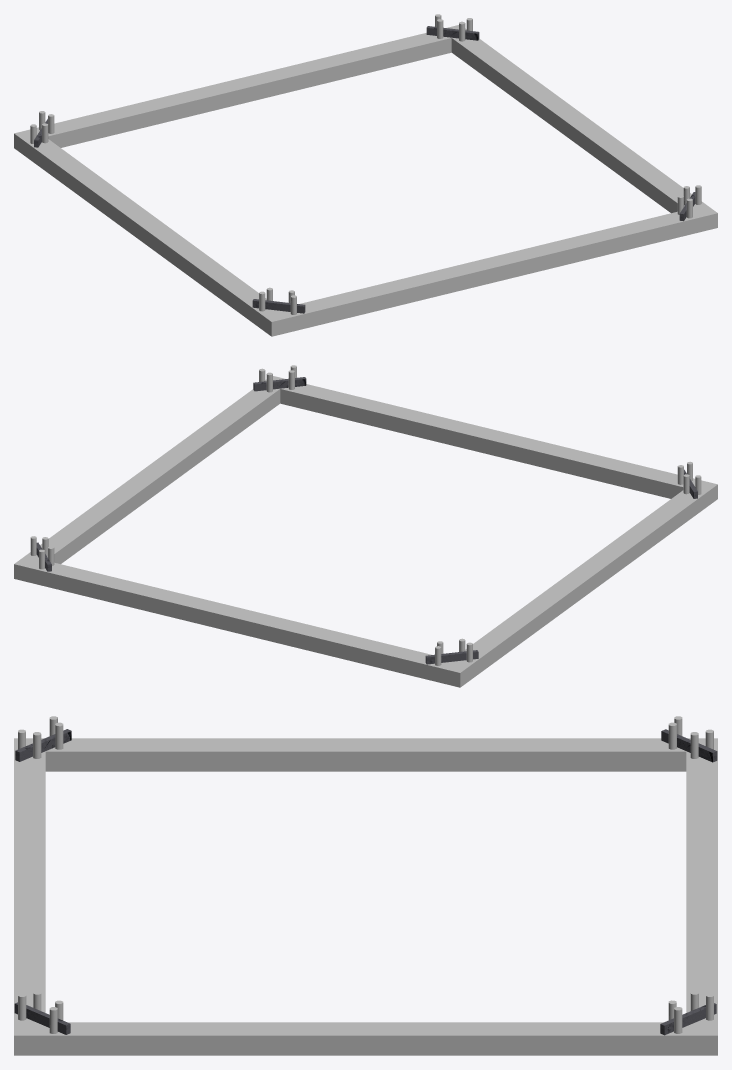
File: lvmo.FBX
The picture shows the model from 3 angles, top to bottom: view 1: azimuth 30°, elevation 25°; view 2: azimuth 150°, elevation 25°; view 3: azimuth 270°, elevation 25°; orthographic projection. The views are drawn at different scales.
Visible parts, largest first — view 1: lvmo; view 2: lvmo; view 3: lvmo.
Boxes of the visible parts, box(x1,y1,x2,y2) form: lvmo: box(14, 14, 717, 336); lvmo: box(14, 365, 717, 687); lvmo: box(14, 716, 717, 1055).
Bounding box in the file's own units: 65.96 × 4.52 × 65.97.
Materials: 1 (1 with a texture image).
